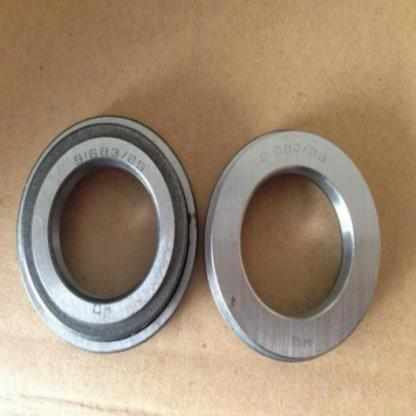FOD: (14, 108, 199, 358)
